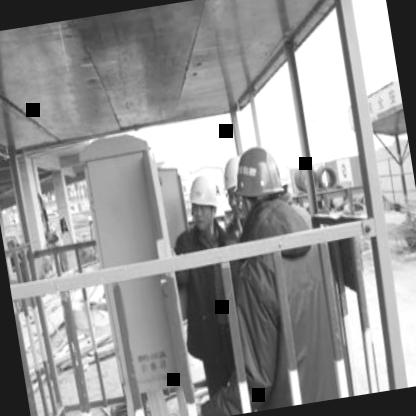helmet: (223, 130, 294, 242), (177, 162, 235, 242)
